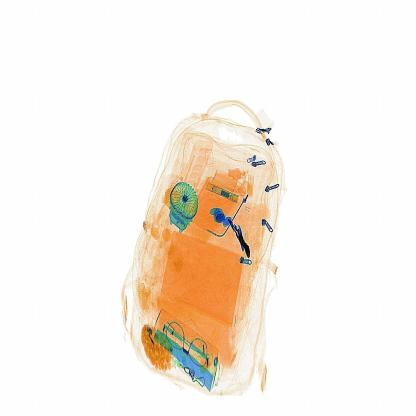wrench: (221, 205, 256, 275)
